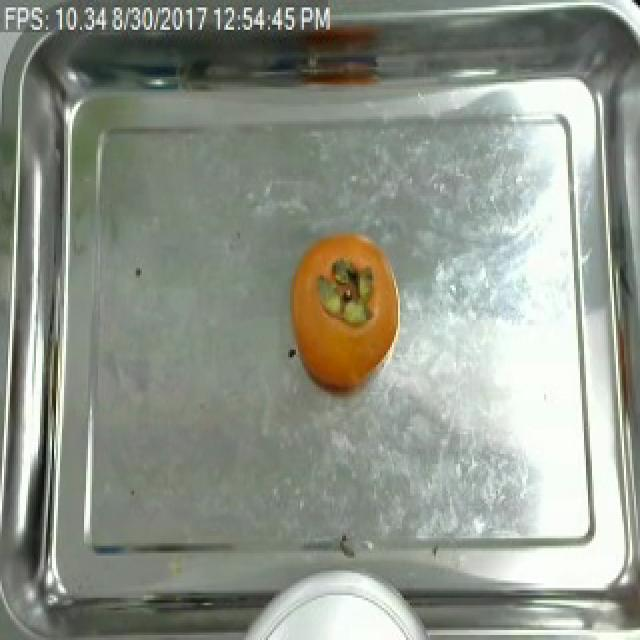Fruit: (286, 226, 404, 387)
